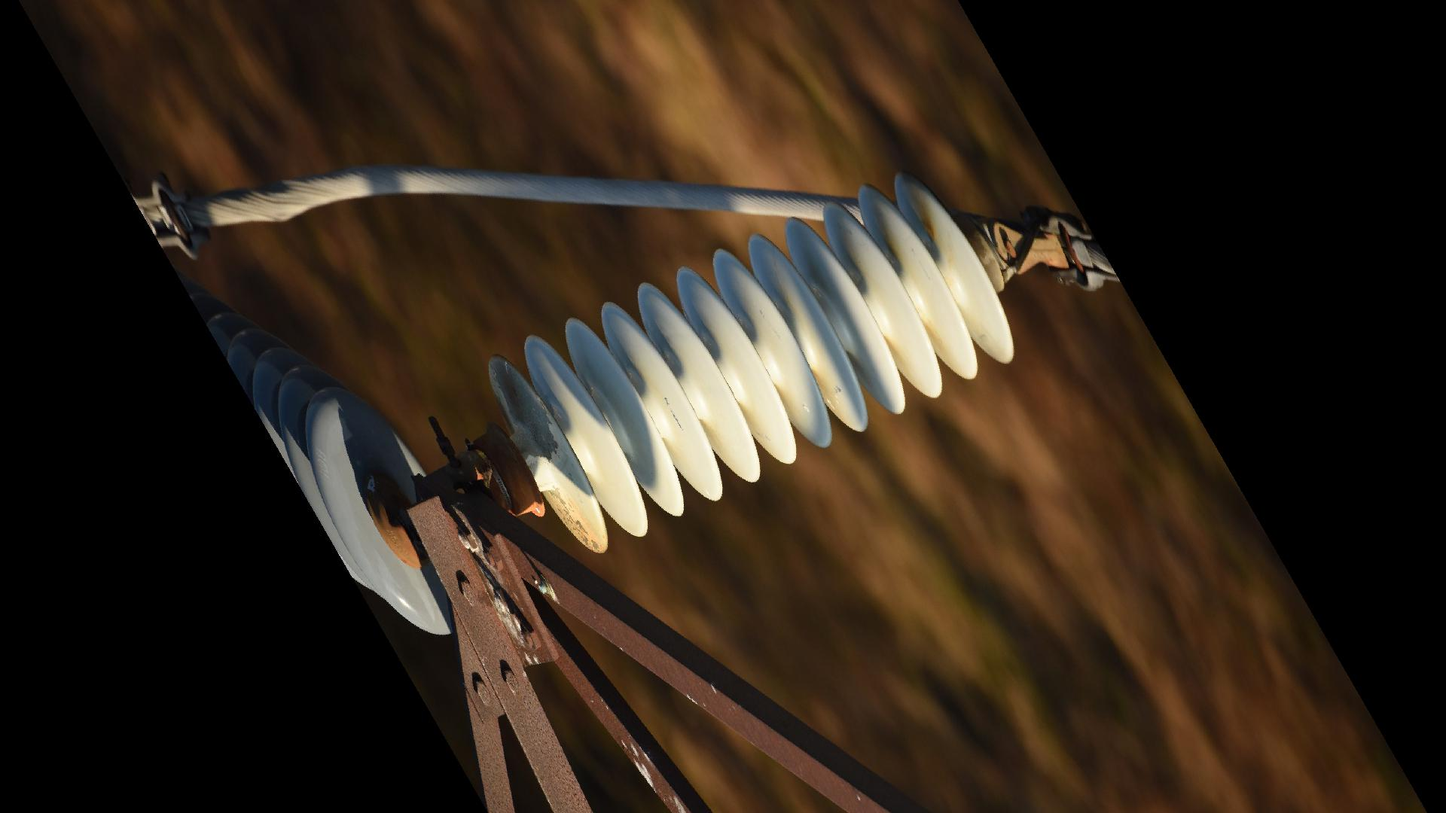insulator: (485, 166, 1024, 561)
insulator_flashover: (485, 351, 560, 462)
